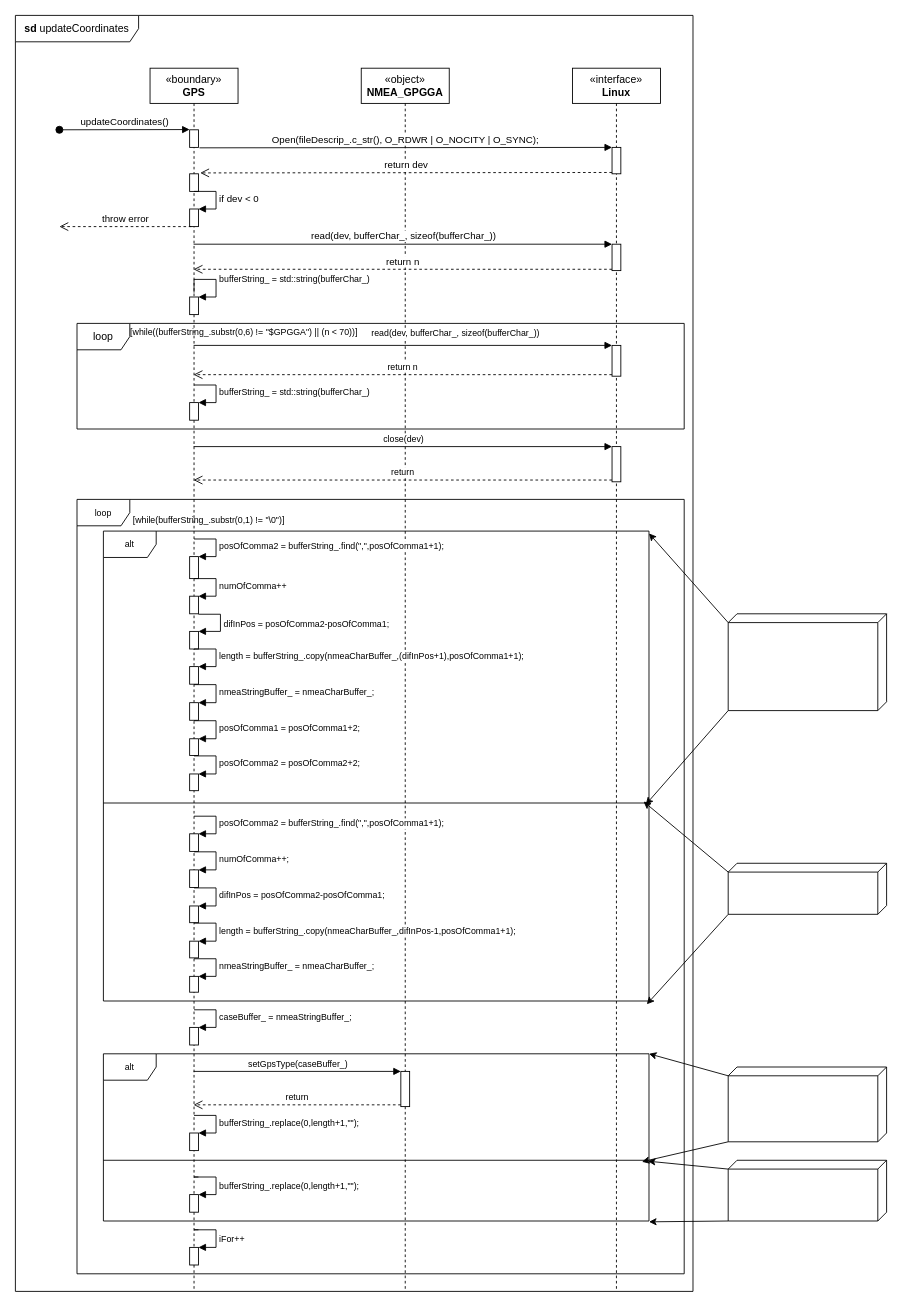
The diagram is 902 pixels wide and 1307 high, and some of its shapes have lost their labels. Each missing label, with the box of its shape:
Continues to switch on iFor to set variables in NMEA_GPGGA: (727, 1066, 887, 1142)
Interaction occurs if numOfComma is equal to 2,3,7 or 8: (727, 613, 887, 711)
Occurs on case 9 when caseBuffer_ is empty: (727, 1159, 887, 1221)
Otherwise this interaction occurs: (727, 862, 887, 914)
